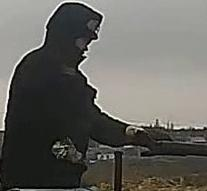gloves: (122, 123, 155, 150)
helmet: (82, 16, 101, 41)
vest: (0, 48, 100, 189)
